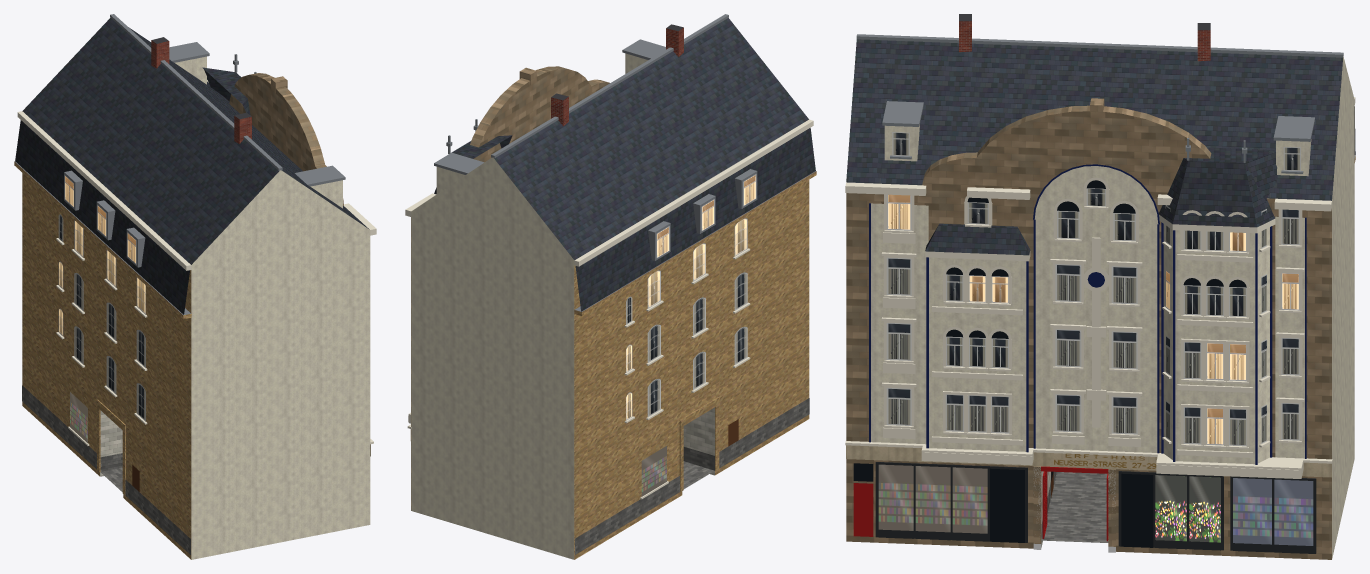
The model's file is erft-haus.glb.
3 renders of one model, left to right at view 1: azimuth 30°, elevation 25°; view 2: azimuth 150°, elevation 25°; view 3: azimuth 270°, elevation 25°, orthographic. The views are drawn at different scales.
Visible parts, largest first — view 1: erft-haus; view 2: erft-haus; view 3: erft-haus.
Part boxes in pixels (box(x1,y1,x2,y2)): erft-haus: box(14, 14, 376, 559); erft-haus: box(405, 14, 816, 559); erft-haus: box(845, 14, 1355, 559).
Bounding box in the file's own units: 14.49 × 24.2 × 23.44.
30 materials, 19 textured.
